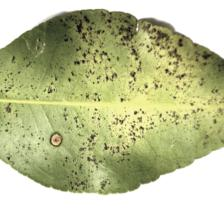canker: (42, 15, 183, 184)
